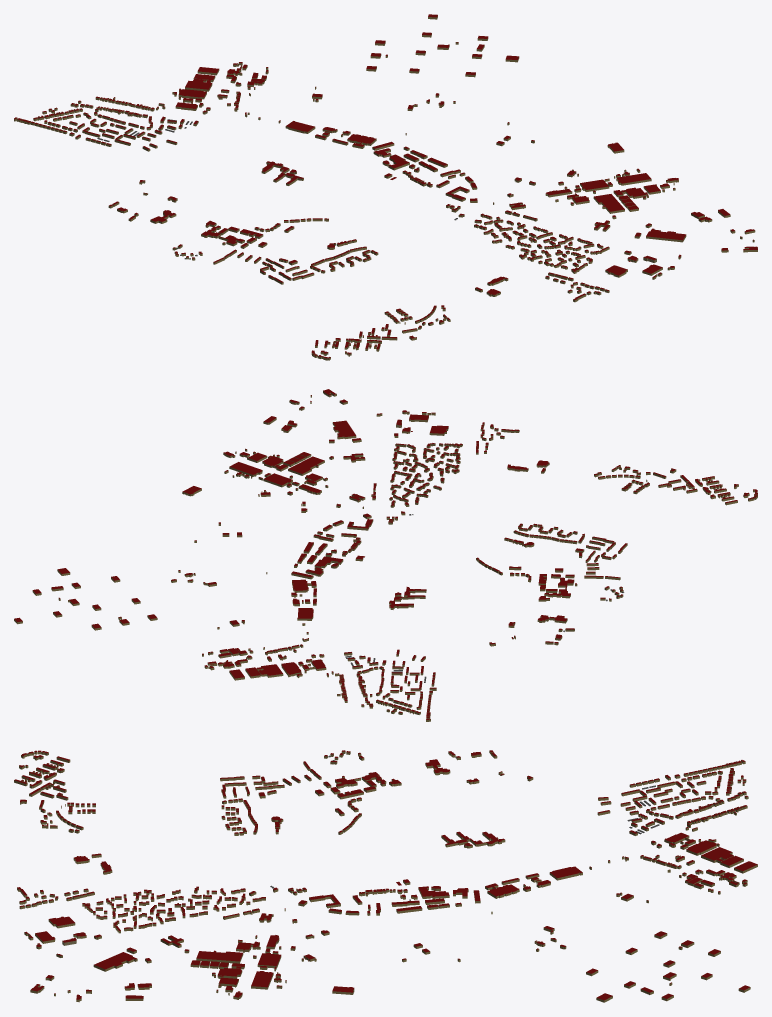
3 renders of one model, top to bottom at view 1: azimuth 30°, elevation 25°; view 2: azimuth 150°, elevation 25°; view 3: azimuth 270°, elevation 25°, orthographic. The views are drawn at different scales.
Parts seen in each view (by area): view 1: no part large enough to name; view 2: no part large enough to name; view 3: Building511.
Boxes of the visible parts, x1,y1,x2,y2 form: Building511: (196,950,243,963).
Bounding box in the file's own units: 1693 × 10 × 2126.
